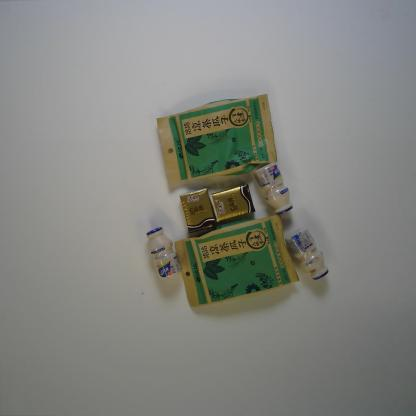Dried Food: (174, 214, 301, 309), (156, 91, 278, 186)
Milk: (284, 227, 329, 281), (252, 161, 294, 216), (146, 226, 182, 279)
Tissue: (179, 187, 217, 235), (211, 183, 256, 223)
